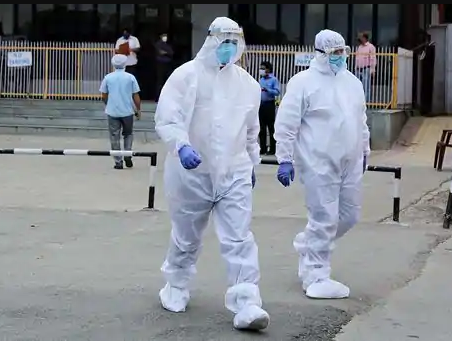Coverall: (154, 15, 262, 288), (278, 26, 370, 273)
Gloves: (177, 144, 203, 171), (274, 158, 295, 186)
Mask: (216, 43, 237, 66), (325, 53, 347, 73)
